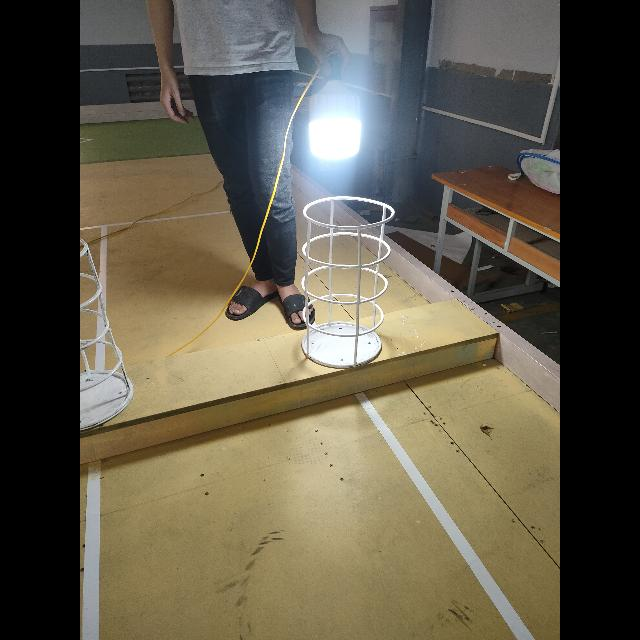S: (296, 191, 400, 371), (80, 235, 136, 433)
